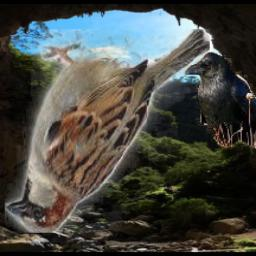Crow: (184, 50, 256, 149)
Sparrow: (6, 29, 211, 233)
